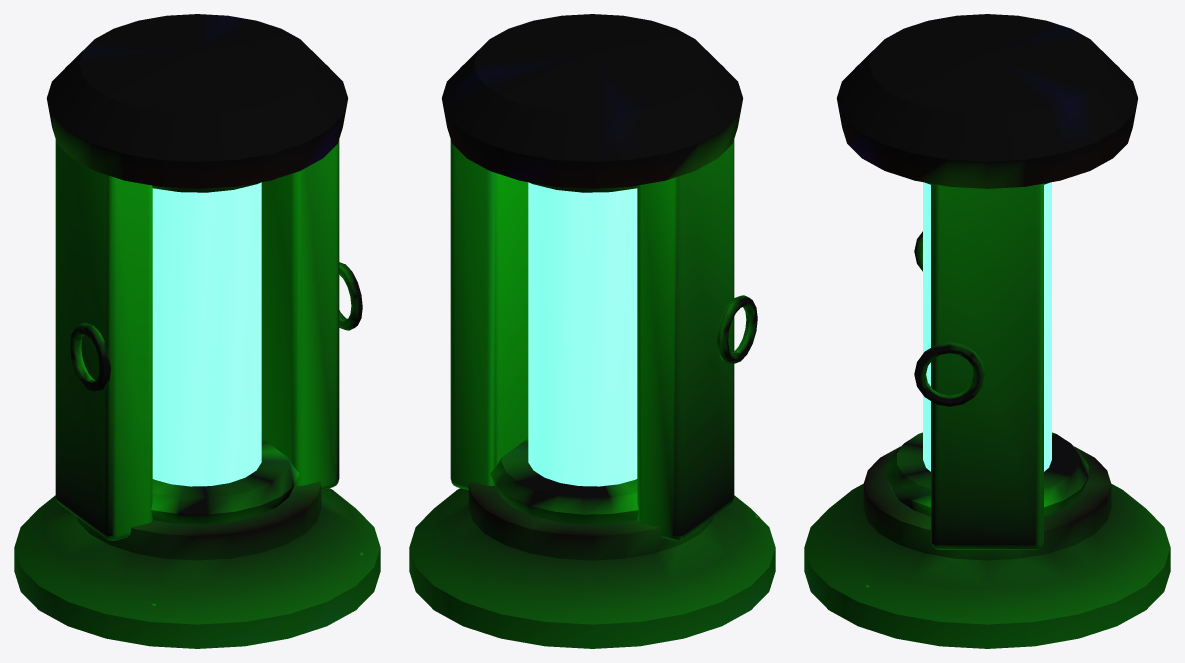
Rendered from hero_refill_pod.glb.
3 views of the same model, side by side, from view 1: azimuth 30°, elevation 25°; view 2: azimuth 150°, elevation 25°; view 3: azimuth 270°, elevation 25° (orthographic).
Visible parts, largest first — view 1: HeroRefillPod; view 2: HeroRefillPod; view 3: HeroRefillPod.
Part boxes in pixels (x1,y1,x2,y2): HeroRefillPod: (14,14,380,648); HeroRefillPod: (409,14,775,648); HeroRefillPod: (804,14,1170,648).
Bounding box in the file's own units: 1.36 × 2.12 × 1.36.
